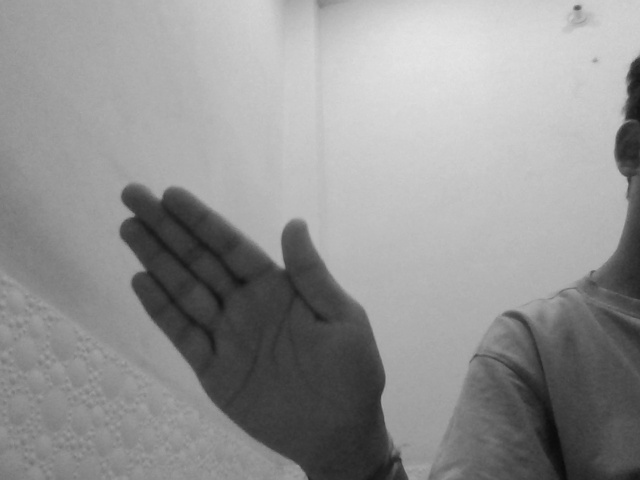Hello: (104, 176, 390, 480)
